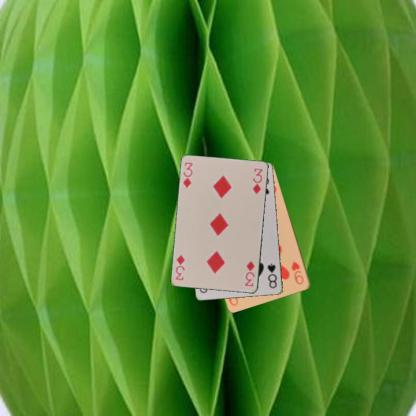3d: (180, 160, 194, 190), (243, 259, 256, 288)
8s: (264, 261, 278, 290)
9h: (289, 259, 305, 286)
